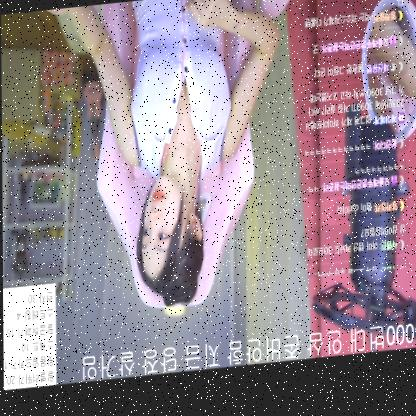streamer: (46, 0, 278, 319)
